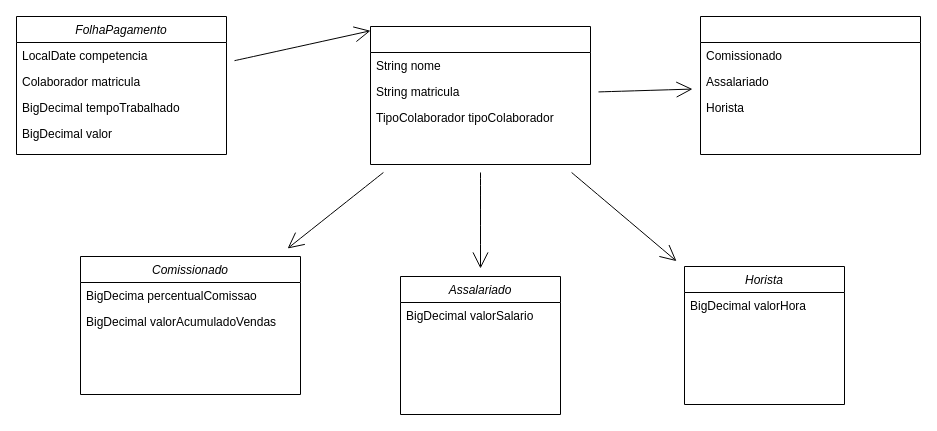
Image size: 937x431. Some labels were removed from this diagram. The shapes that lost their labels are listed below. From the top down, each one's box as (x1, y1, x2, y2) in pixels, then its label:
(370, 26, 590, 164): Abstract class Colaborador
(700, 16, 920, 154): Enum TipoColaborador
